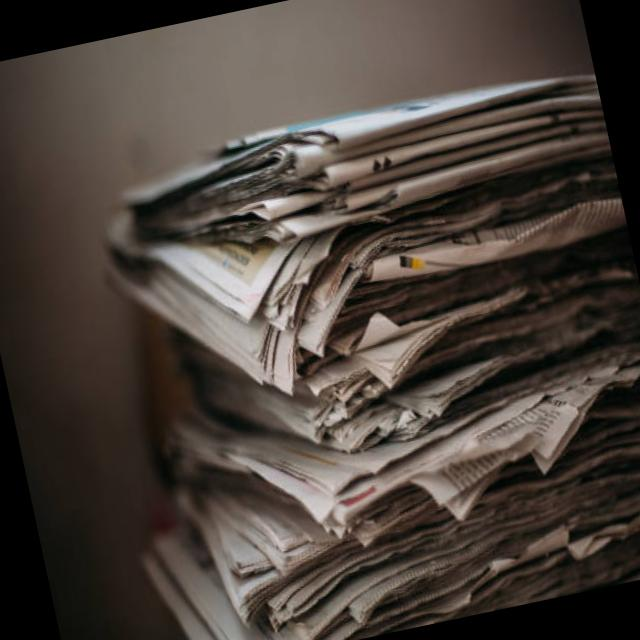electronic: (71, 59, 640, 640)
